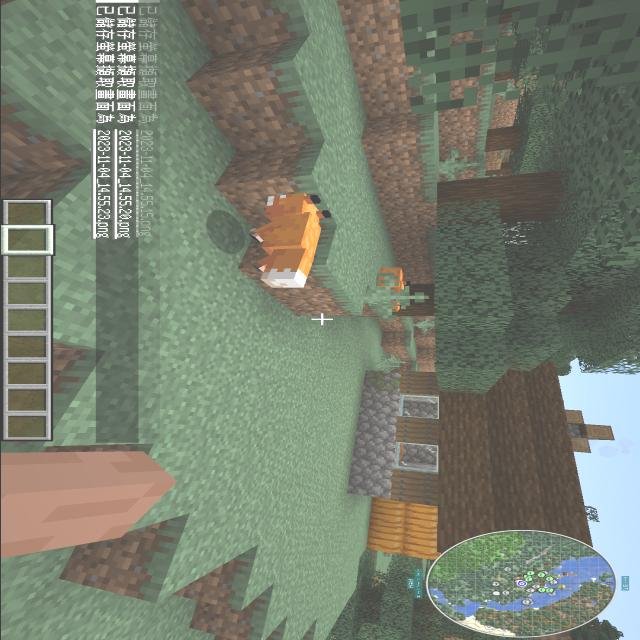Fox: (232, 182, 350, 298), (366, 257, 408, 323)
